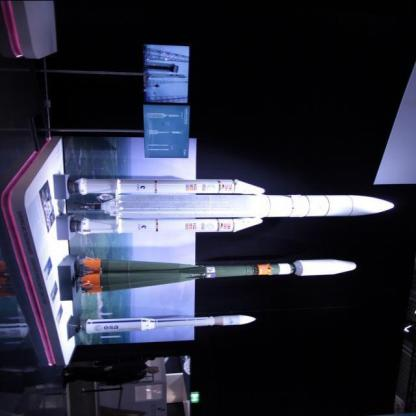MIL_TBM: (74, 259, 356, 292), (106, 192, 398, 218), (82, 312, 258, 335), (78, 216, 274, 236), (76, 177, 268, 194)
